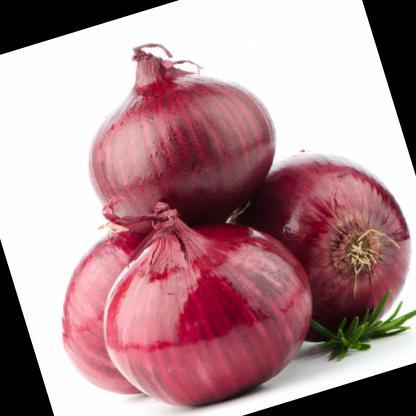onion: (53, 14, 304, 262)
